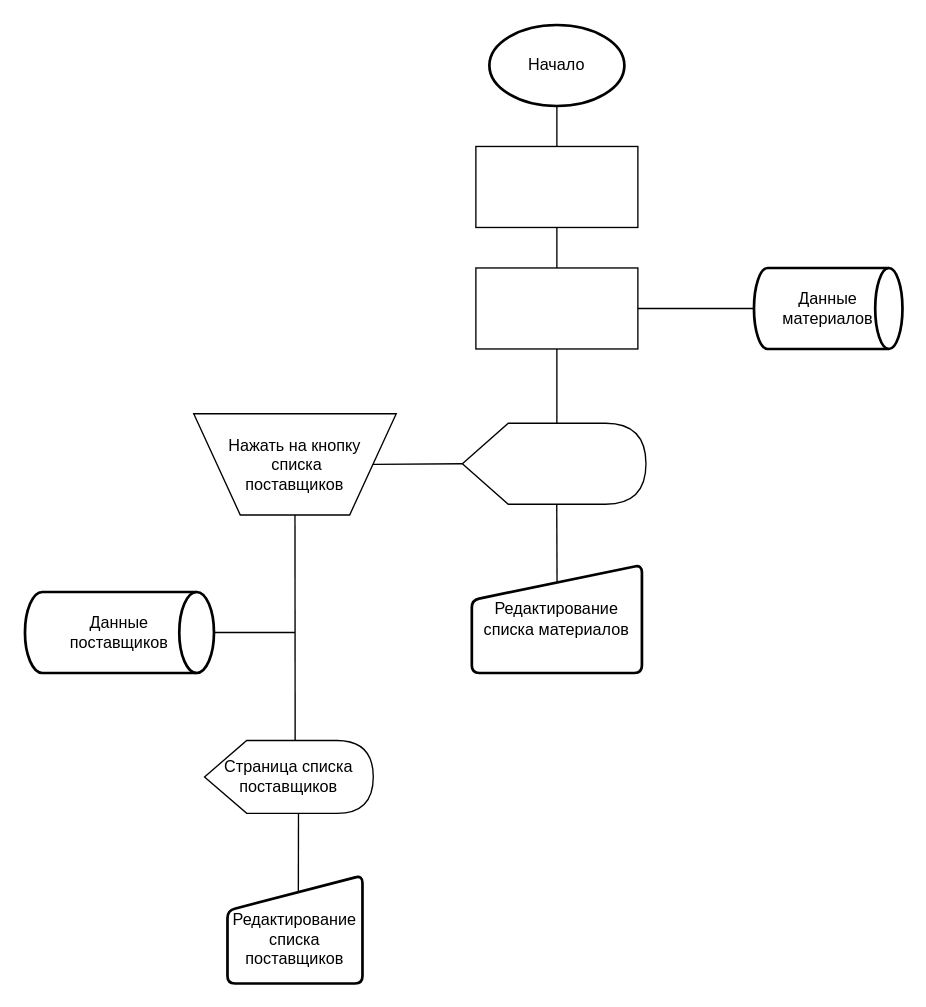
Image size: 926x1007. Some labels were removed from this diagram. Here are the shapes that lost their labels. From the top down, the centre of each, then its label:
At point 556,186: "Загрузка стартовой страницы".
At point 556,308: "Загрузка страницы материалов".
At point 553,463: "Страница материалов".
